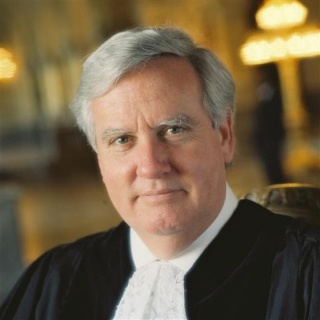without_mask: (90, 64, 226, 235)
